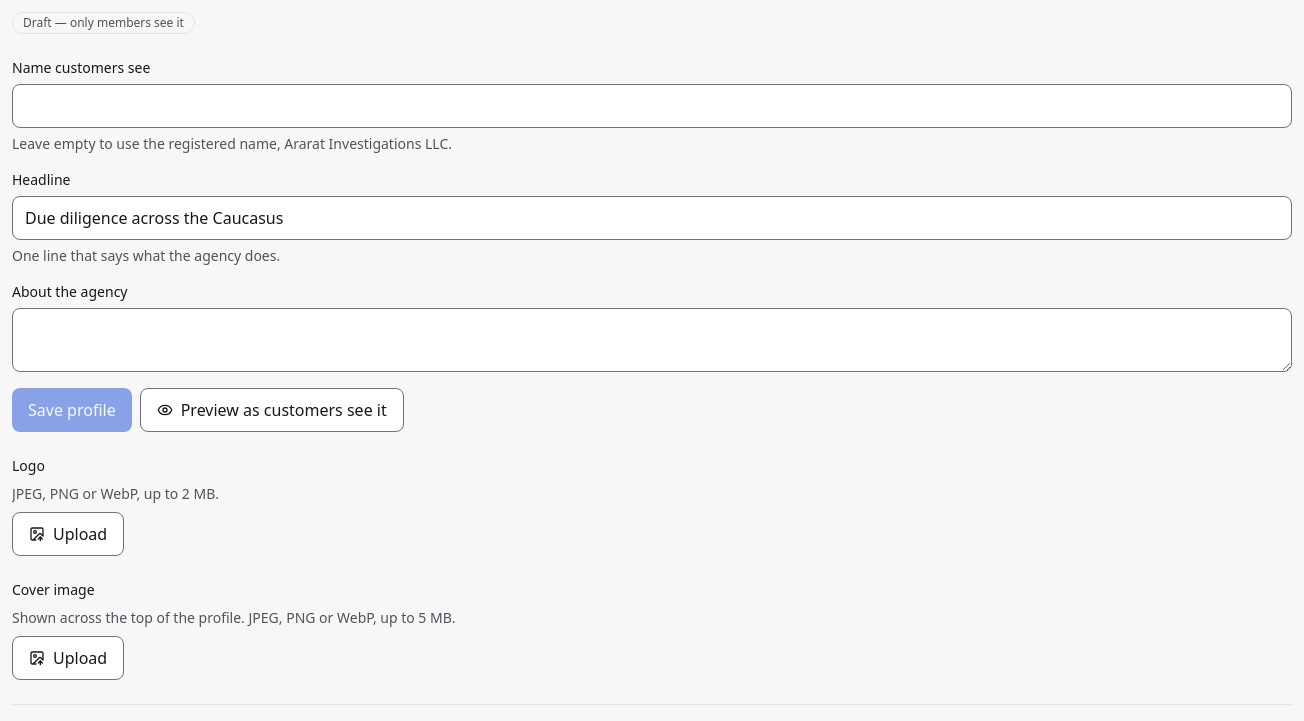
Test: the public profile editor › says beside each field what the API refused in it
The image size is (1304, 721).
Step 1. Type "!" into the field labelled "Headline" → (652, 218), box [12,196,1292,240]
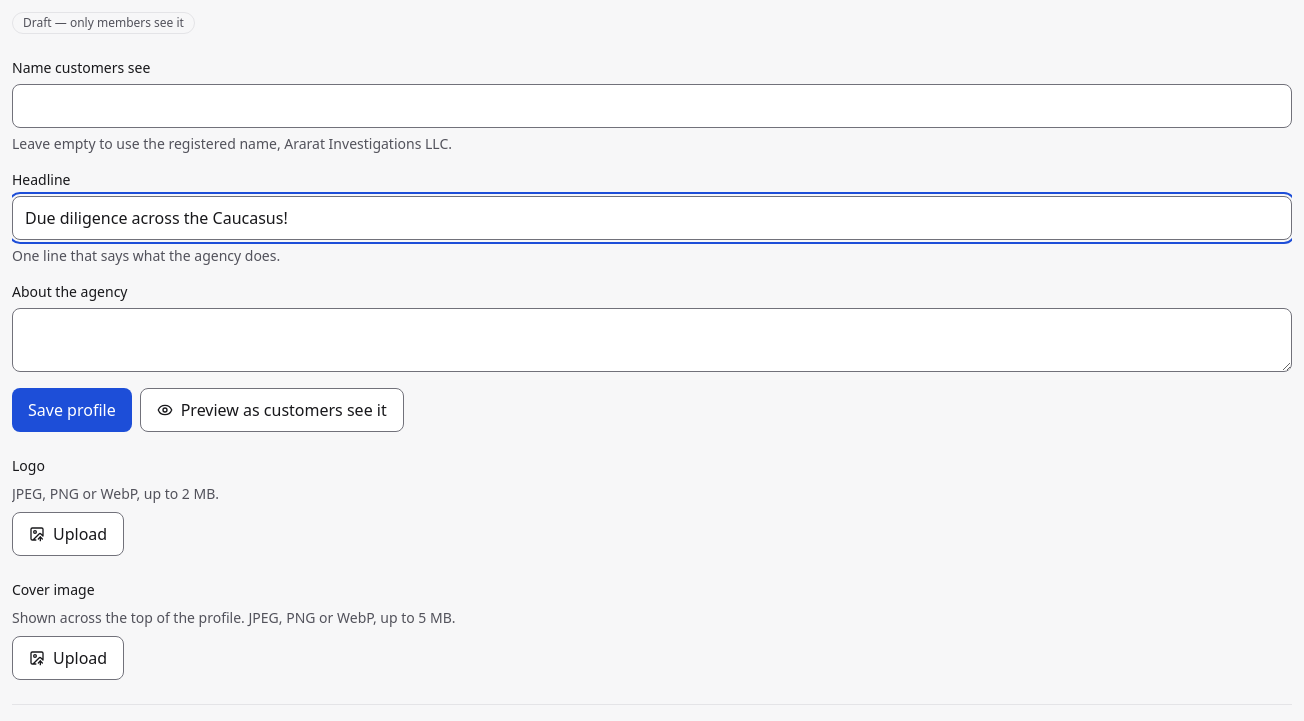
Step 2. Click the button "Save profile" → click(72, 410), box [12,388,132,432]
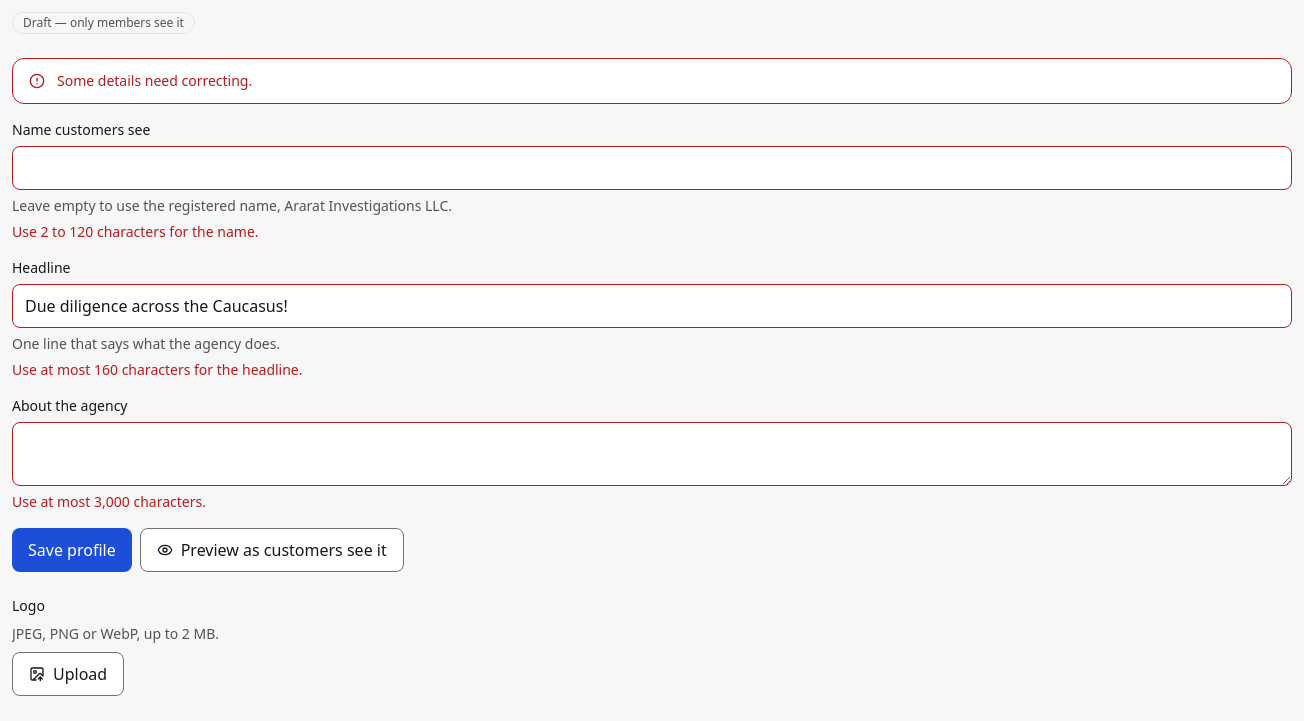
Expected: the text "Use 2 to 120 characters for the name." is shown, [12,222,258,241]
Expected: the text "Use at most 3,000 characters." is shown, [12,492,206,511]
Expected: the text "Use at most 160 characters for the headline." is shown once, [12,360,302,379]
